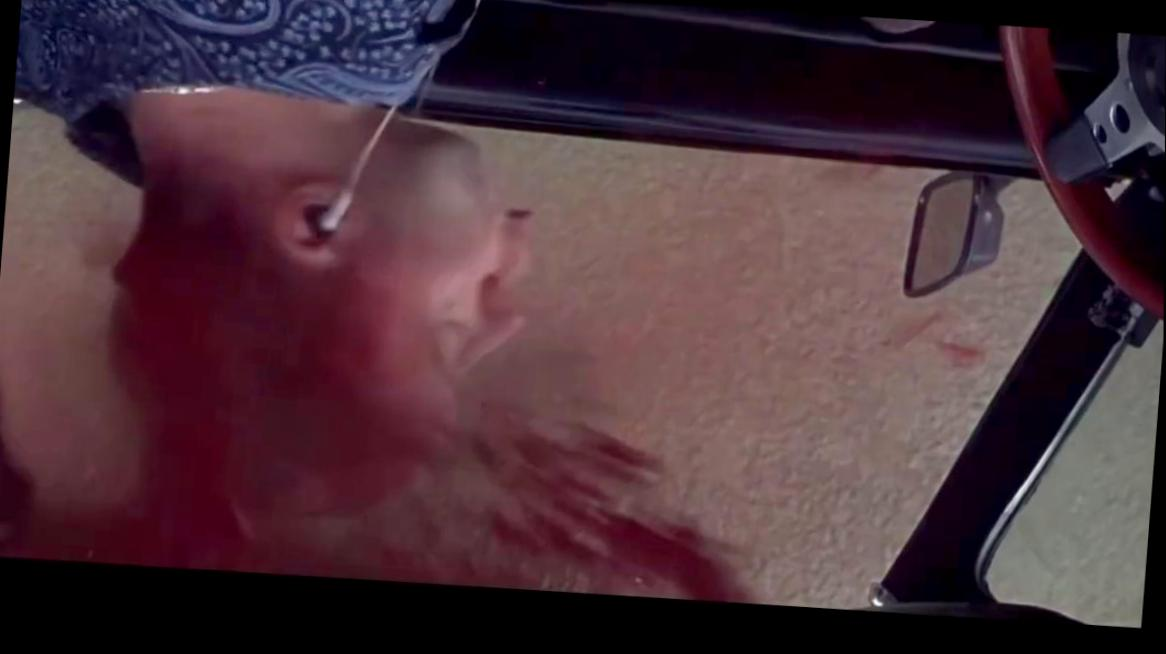Fire: (108, 187, 740, 600)
